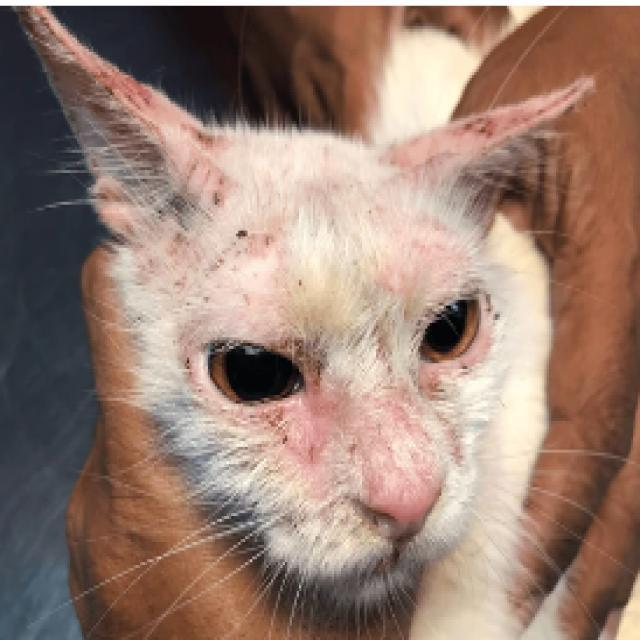Mange: (91, 60, 166, 118), (466, 116, 508, 147), (208, 171, 238, 210), (228, 227, 272, 253), (294, 409, 326, 444), (182, 126, 221, 153), (483, 280, 508, 322), (284, 266, 320, 290), (206, 179, 232, 208), (170, 230, 197, 253)
